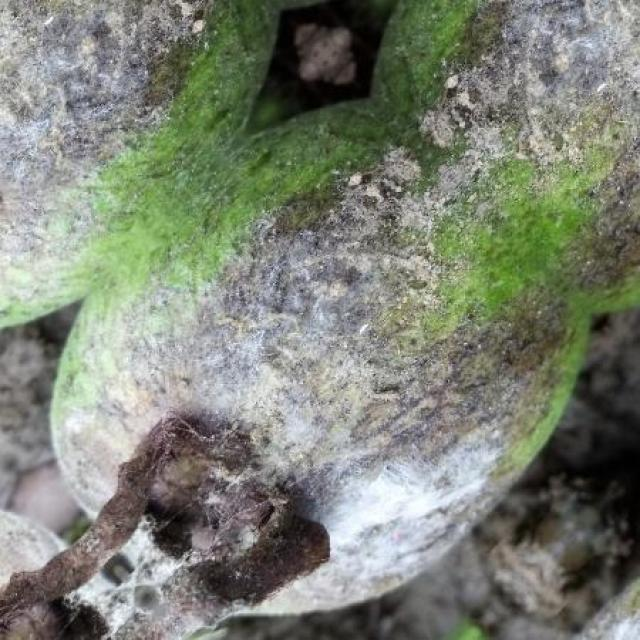Phytopthora: (52, 0, 640, 613), (52, 178, 598, 612), (0, 411, 330, 639), (0, 0, 208, 311), (239, 120, 342, 157)
